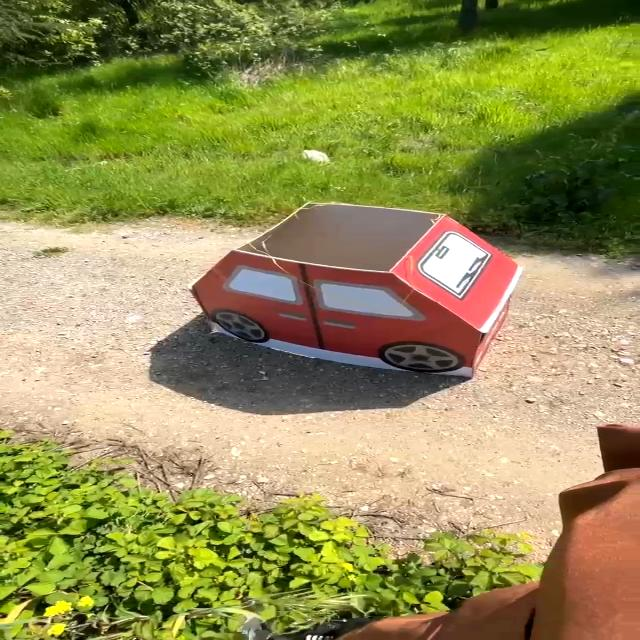red_car: (153, 182, 577, 396)
